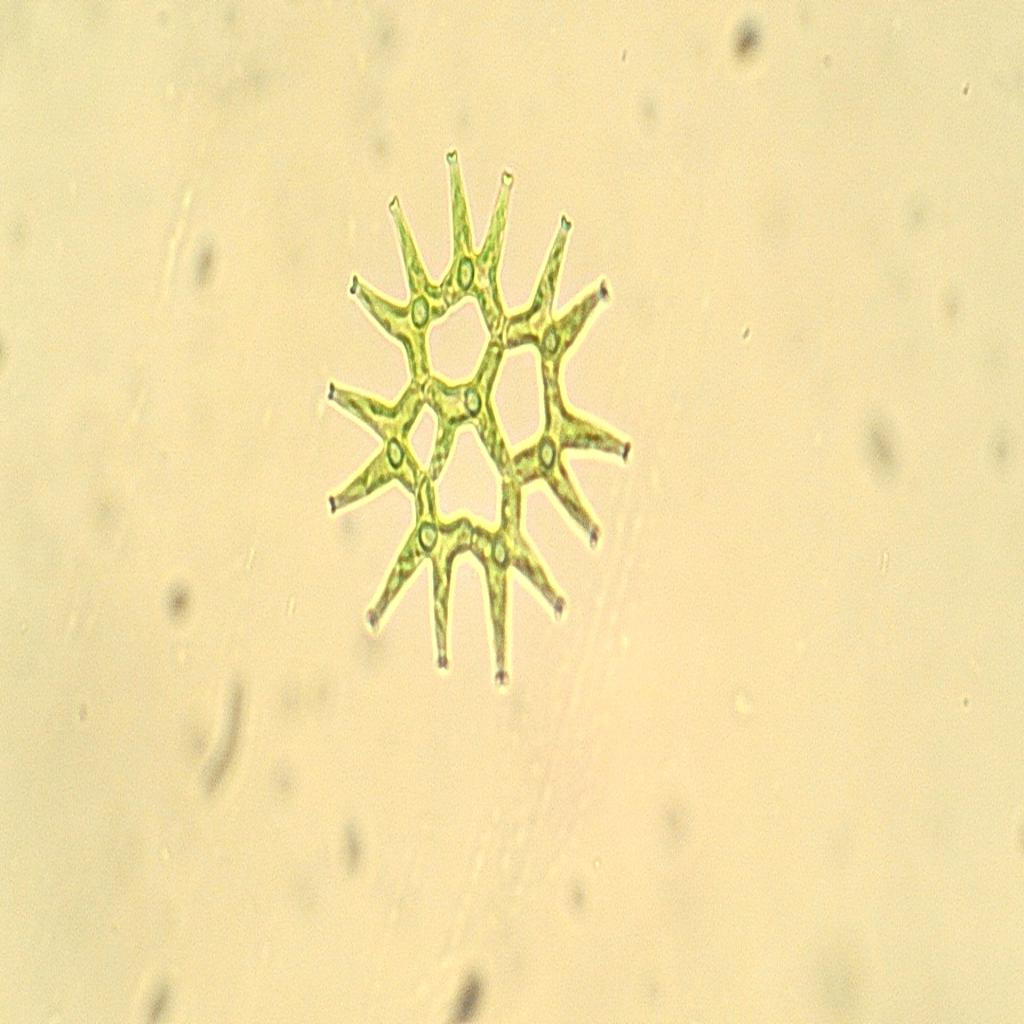Pediastrum_CTH: (305, 124, 640, 716)
